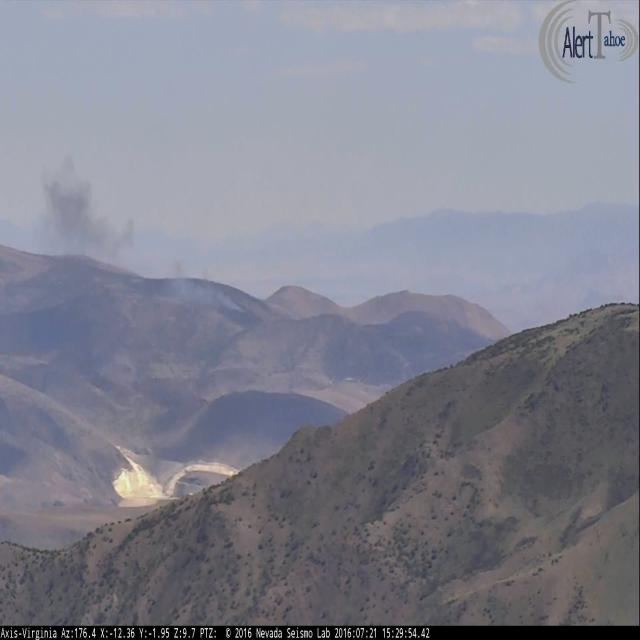smoke: (46, 168, 137, 262), (168, 263, 251, 317)
